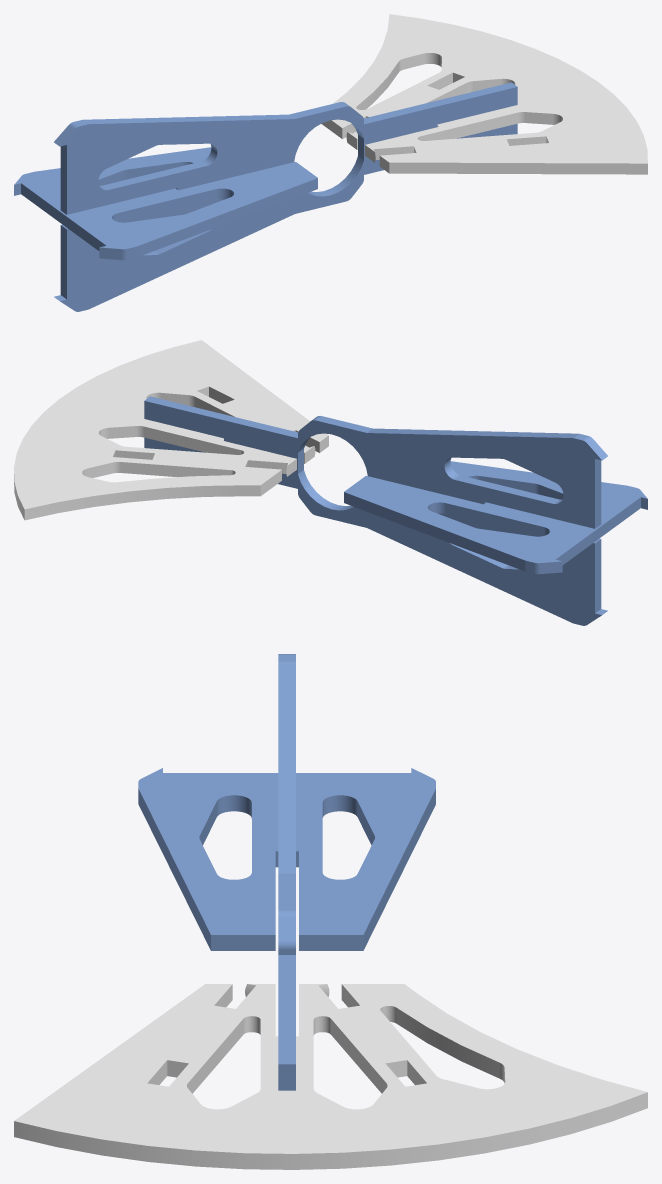
The model's file is skeleton.gltf.
The picture shows the model from 3 angles, top to bottom: view 1: azimuth 30°, elevation 25°; view 2: azimuth 150°, elevation 25°; view 3: azimuth 270°, elevation 25°; orthographic projection. The views are drawn at different scales.
Parts seen in each view (by area): view 1: Part 4, Part 1, Part 3; view 2: Part 1, Part 4, Part 3; view 3: Part 1, Part 3, Part 4.
Part boxes in pixels (<box>): Part 4: <box>54,82,517,311</box>; Part 1: <box>321,14,647,174</box>; Part 3: <box>14,147,317,260</box>; Part 1: <box>14,340,328,520</box>; Part 4: <box>144,396,607,625</box>; Part 3: <box>344,461,647,574</box>; Part 1: <box>14,984,647,1169</box>; Part 3: <box>138,768,435,950</box>; Part 4: <box>278,654,295,1090</box>.
Size of the model in its own units: 0.3282 by 0.1069 by 0.2277.
